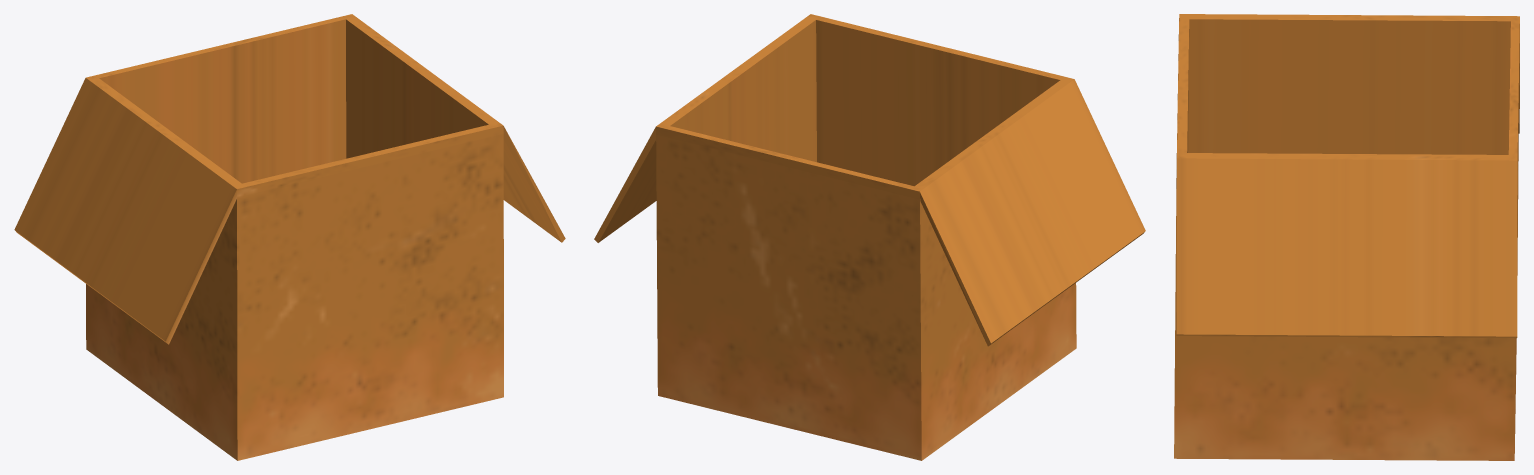
Rendered from Box_Physics.FBX.
3 renders of one model, left to right at view 1: azimuth 30°, elevation 25°; view 2: azimuth 150°, elevation 25°; view 3: azimuth 270°, elevation 25°, orthographic. The views are drawn at different scales.
Visible parts, largest first — view 1: Carton.Physic, Lid1, Lid2; view 2: Carton.Physic, Lid1, Lid2; view 3: Carton.Physic, Lid2.
Part boxes in pixels (box(x1,y1,x2,y2)): Carton.Physic: box(86, 14, 503, 460); Lid1: box(14, 78, 236, 344); Lid2: box(503, 126, 565, 242); Carton.Physic: box(656, 14, 1076, 460); Lid1: box(920, 79, 1145, 346); Lid2: box(594, 127, 656, 242); Carton.Physic: box(1174, 14, 1519, 460); Lid2: box(1176, 158, 1517, 338).
Size of the model in its own units: 67.63 by 43.86 by 45.48.
Materials: 1 (1 with a texture image).
